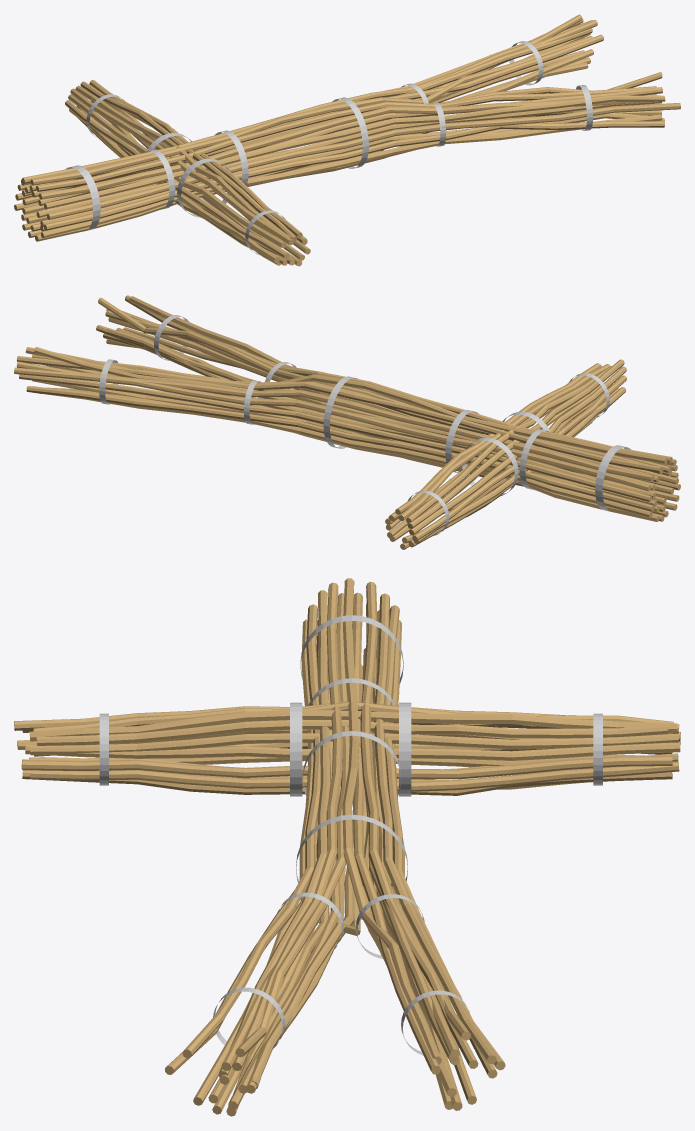
File: waradoll.fbx
3 views of the same model, one above another, from view 1: azimuth 30°, elevation 25°; view 2: azimuth 150°, elevation 25°; view 3: azimuth 270°, elevation 25° (orthographic). The views are drawn at different scales.
Visible parts, largest first — view 1: Body, Arm, BodyHimo, ArmHimo; view 2: Body, Arm, BodyHimo, ArmHimo; view 3: Body, Arm, BodyHimo, ArmHimo.
Boxes of the visible parts, x1,y1,x2,y2 form: Body: (14, 14, 680, 241); Arm: (65, 80, 310, 266); BodyHimo: (66, 41, 592, 231); ArmHimo: (86, 94, 285, 255); Body: (14, 295, 680, 521); Arm: (385, 359, 626, 549); BodyHimo: (99, 315, 630, 511); ArmHimo: (407, 373, 609, 535); Body: (165, 578, 505, 1116); Arm: (14, 701, 680, 795); BodyHimo: (213, 615, 469, 1055); ArmHimo: (99, 702, 602, 796).
Size of the model in its own units: 1051 by 109 by 646.
